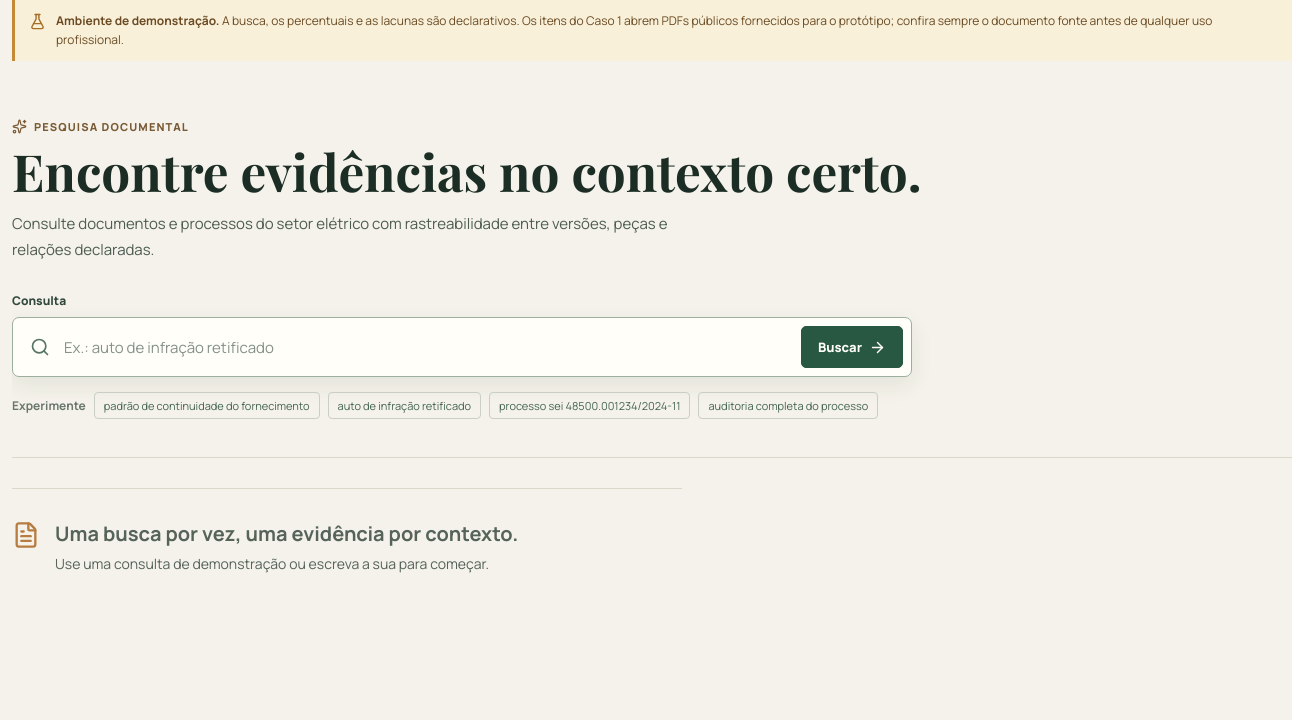
Test: SearchPage › mostra mensagem de nenhum resultado quando results é uma lista vazia
Click the button "auditoria completa do processo" at {"x": 788, "y": 406}, box [698,392,878,420]
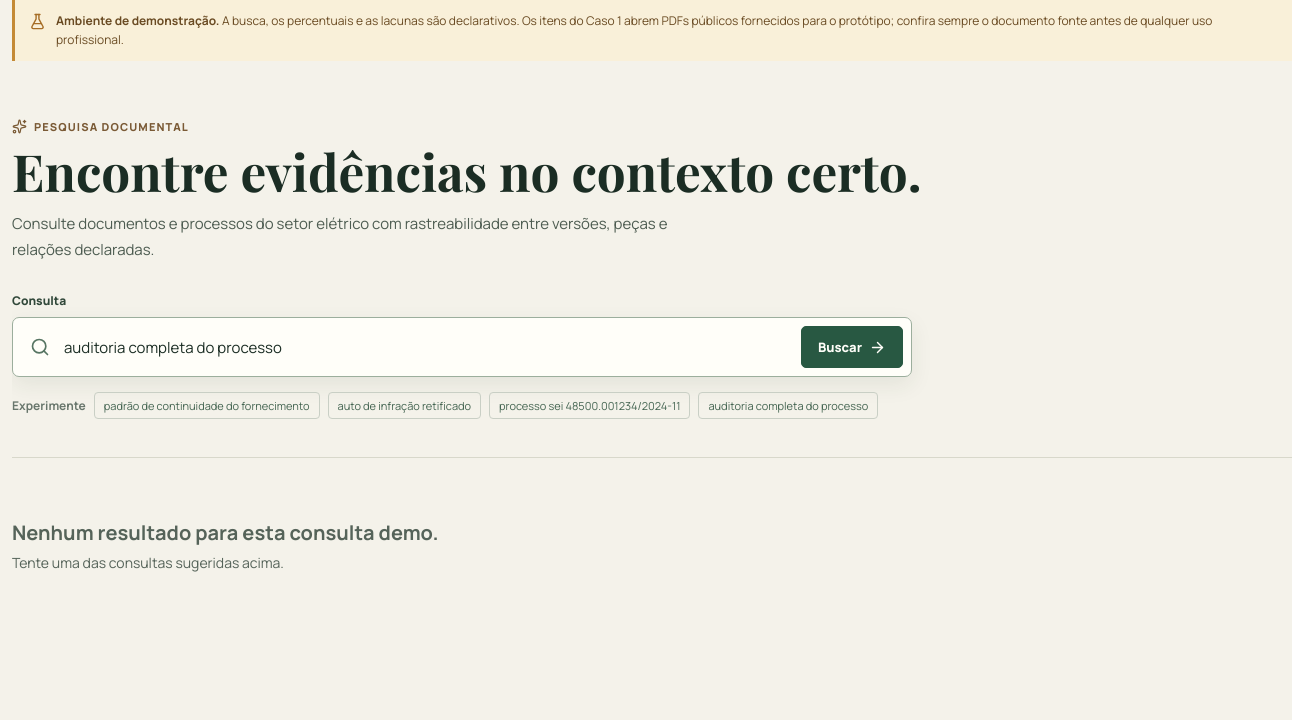
Check: the heading "Nenhum resultado para esta consulta demo." is shown, box [12,520,438,546]
